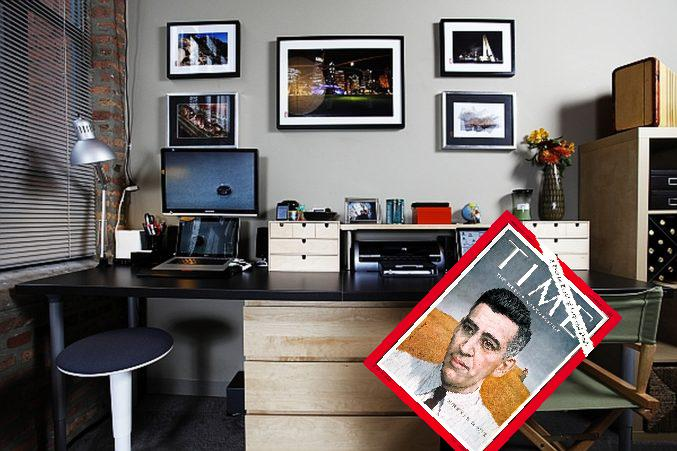times: (359, 207, 623, 451)
